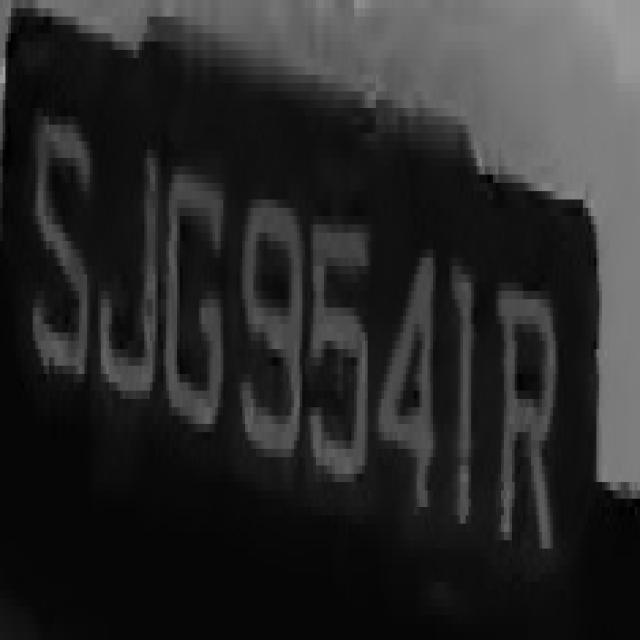1: (449, 166, 485, 557)
4: (373, 183, 444, 565)
5: (308, 158, 376, 507)
9: (242, 158, 305, 490)
G: (174, 117, 237, 466)
J: (98, 75, 166, 424)
R: (496, 216, 564, 582)
S: (30, 91, 93, 399)
